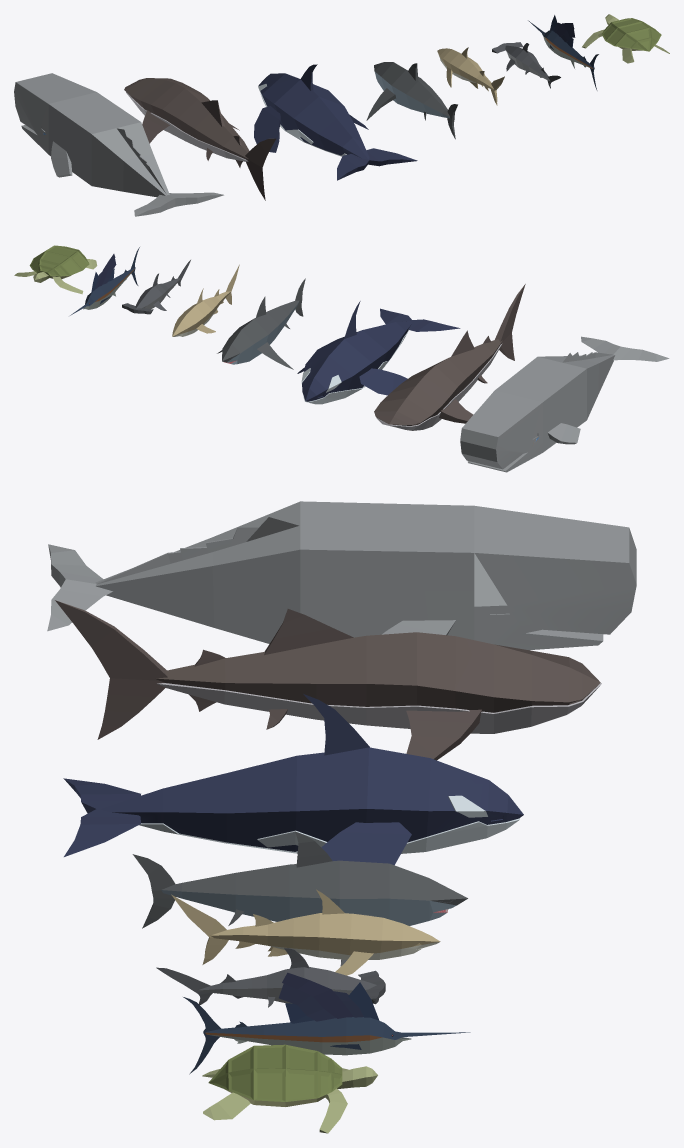
The model's file is Low Poly Pirate Sea Animals.obj.
The picture shows the model from 3 angles, top to bottom: view 1: azimuth 30°, elevation 25°; view 2: azimuth 150°, elevation 25°; view 3: azimuth 270°, elevation 25°; orthographic projection. The views are drawn at different scales.
Visible parts, largest first — view 1: Whale, Grampus, WhaleShark, Shark_1, Turtle, Shark_2, Swordfish, Hammerhad_Shark; view 2: Whale, WhaleShark, Grampus, Shark_1, Turtle, Shark_2, Swordfish, Hammerhad_Shark; view 3: Whale, WhaleShark, Grampus, Shark_1, Shark_2, Swordfish, Turtle, Hammerhad_Shark.
Part boxes in pixels (<box>): Whale: <box>14,73,223,216</box>; Grampus: <box>254,64,417,180</box>; WhaleShark: <box>124,78,275,200</box>; Shark_1: <box>366,62,457,139</box>; Turtle: <box>582,14,669,63</box>; Shark_2: <box>437,47,504,105</box>; Swordfish: <box>528,15,598,90</box>; Hammerhad_Shark: <box>492,42,560,88</box>; Whale: <box>460,336,669,472</box>; WhaleShark: <box>374,284,525,430</box>; Grampus: <box>297,301,460,404</box>; Shark_1: <box>217,278,305,369</box>; Turtle: <box>14,245,97,294</box>; Shark_2: <box>172,264,239,336</box>; Swordfish: <box>70,247,139,315</box>; Hammerhad_Shark: <box>122,260,190,314</box>; Whale: <box>47,501,636,650</box>; WhaleShark: <box>55,600,601,760</box>; Grampus: <box>63,694,523,865</box>; Shark_1: <box>132,831,467,966</box>; Shark_2: <box>171,889,440,975</box>; Swordfish: <box>183,972,470,1074</box>; Turtle: <box>202,1044,377,1133</box>; Hammerhad_Shark: <box>156,948,385,1007</box>.
Size of the model in its own units: 446 by 58.42 by 194.
Materials: 1 (1 with a texture image).
